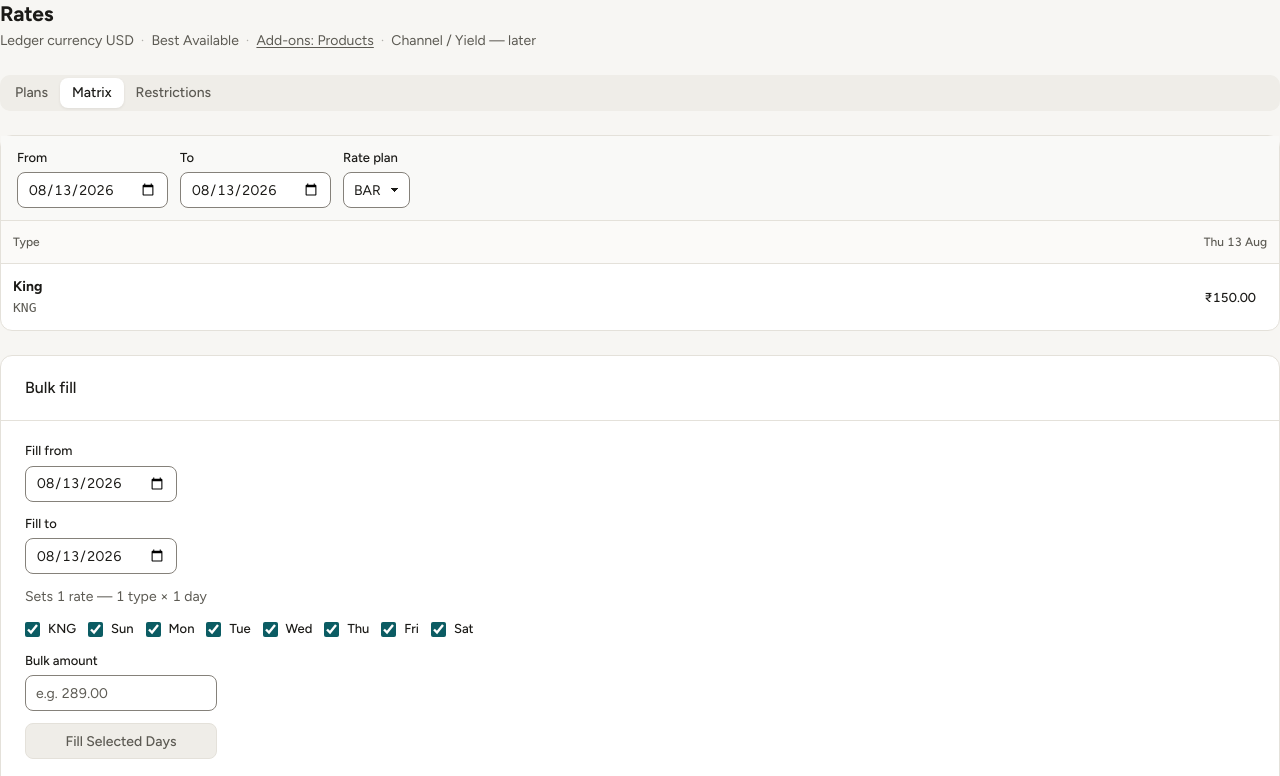
Test: RatesScreen › a rejected cell save shows an Alert and puts the cell back
Click the button named "Edit rate for KNG on 13 Aug 2026".
click(1230, 298)  # box [1194, 280, 1267, 316]
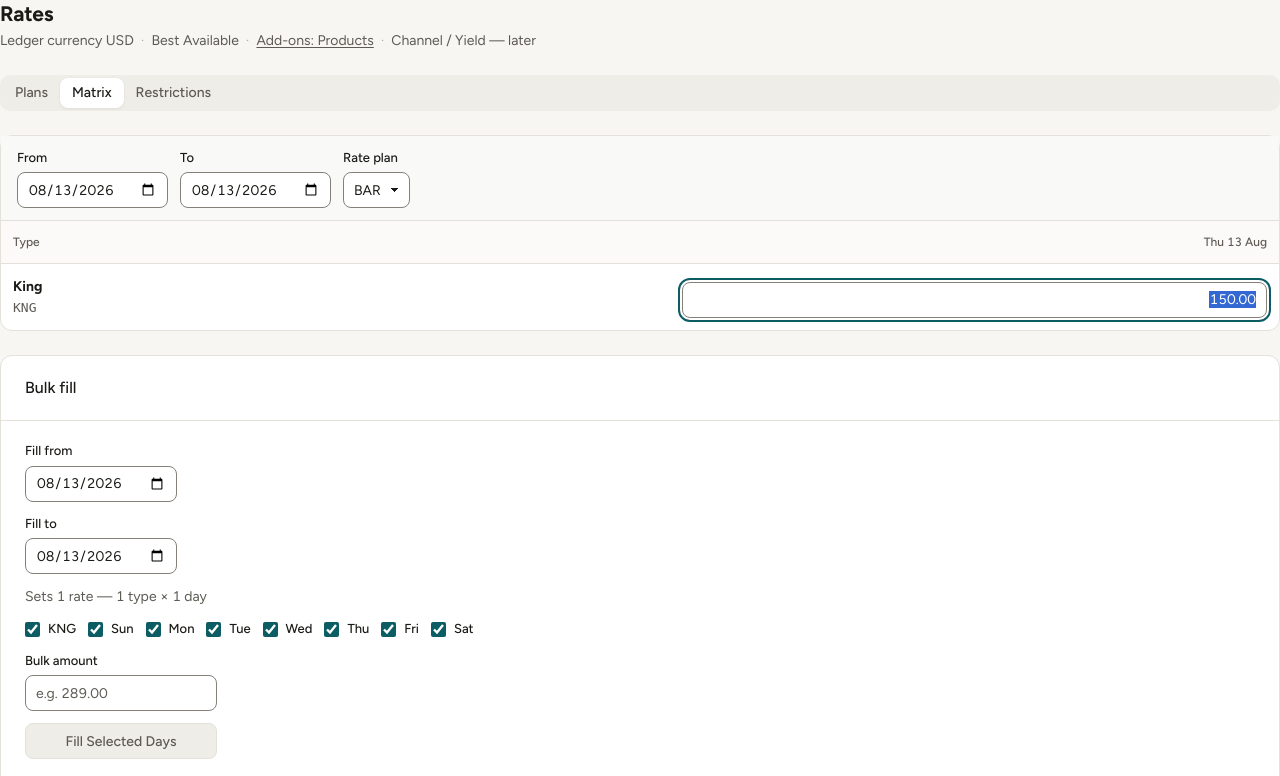
Replace the text in the field named "Rate for KNG on 13 Aug 2026" with "99.00" at (974, 300), box [682, 282, 1267, 318]
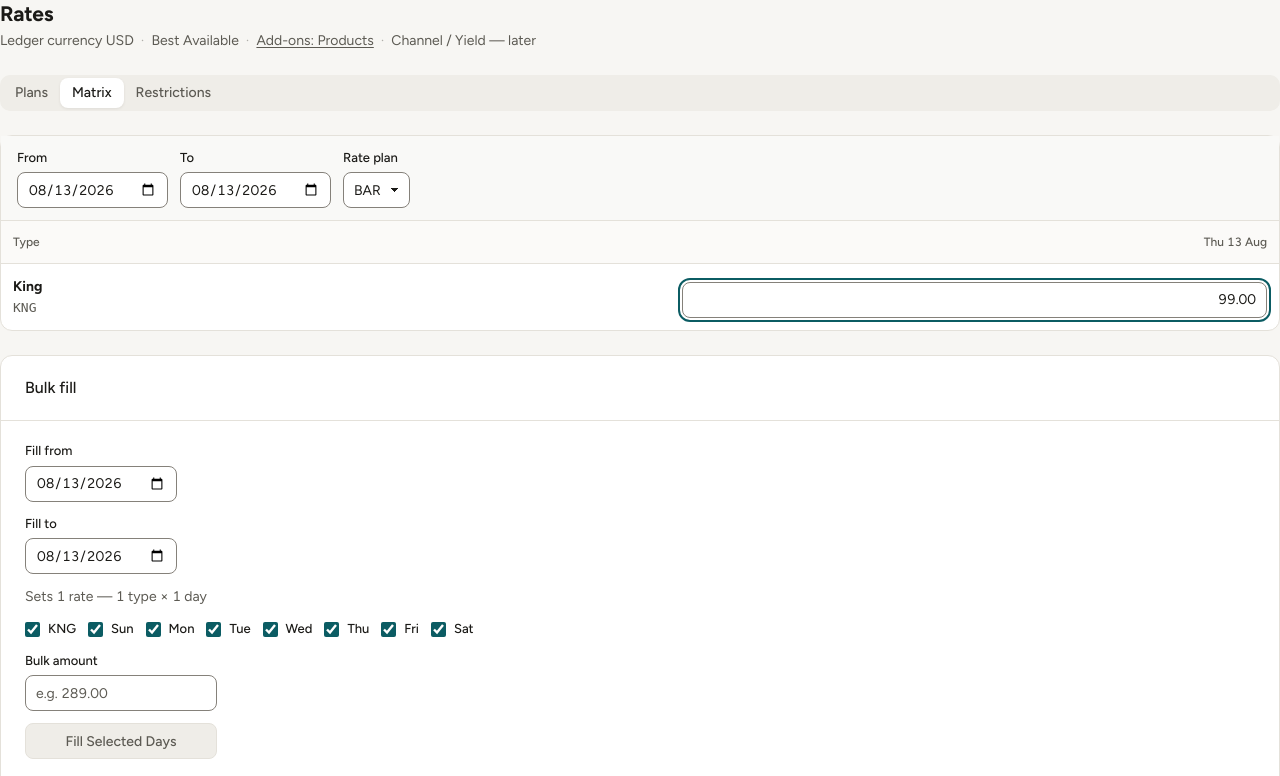
Press Enter in the field named "Rate for KNG on 13 Aug 2026", box [682, 282, 1267, 318]
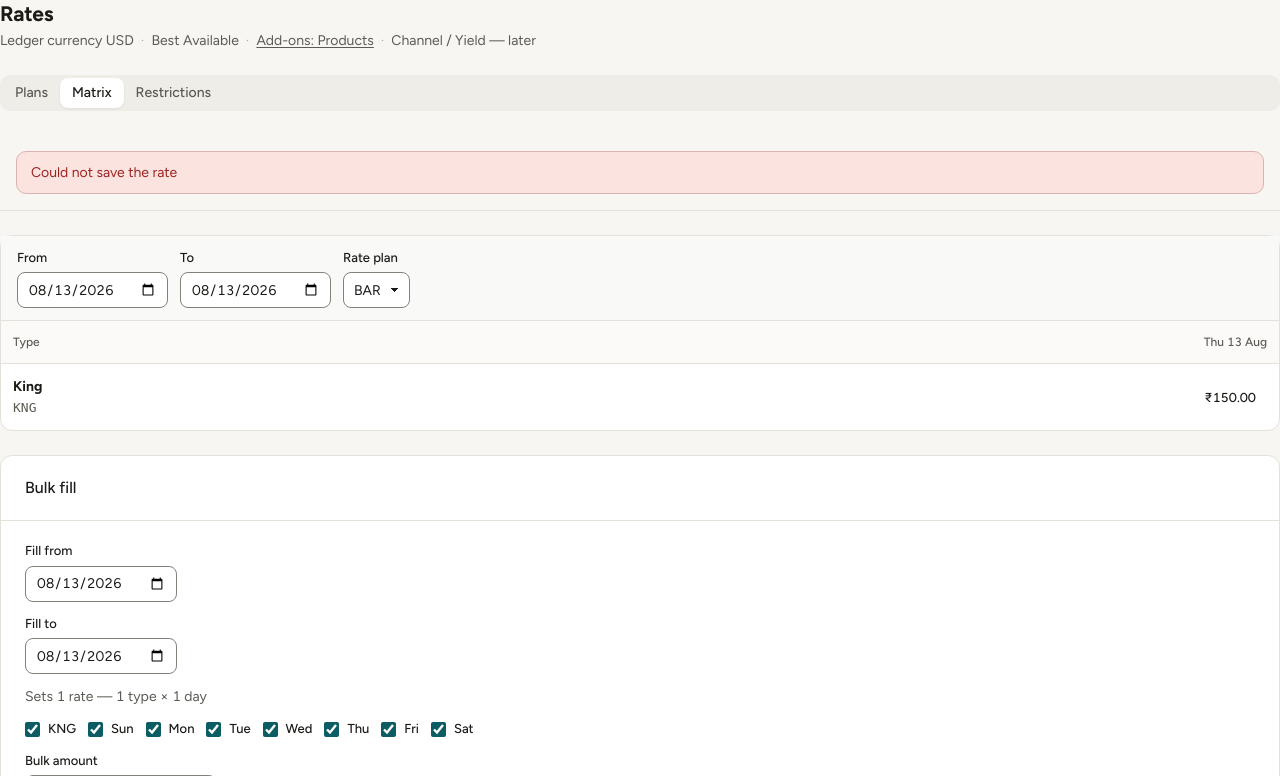
Expected: the button named "Edit rate for KNG on 13 Aug 2026" does not show "99.00", [1194, 380, 1267, 416]
Result: the message reads "Could not save the rate" at [31, 164, 177, 181]
Result: the button named "Edit rate for KNG on 13 Aug 2026" reads "₹150.00" at [1194, 380, 1267, 416]
